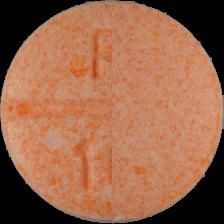33261-336: (0, 0, 224, 224)
